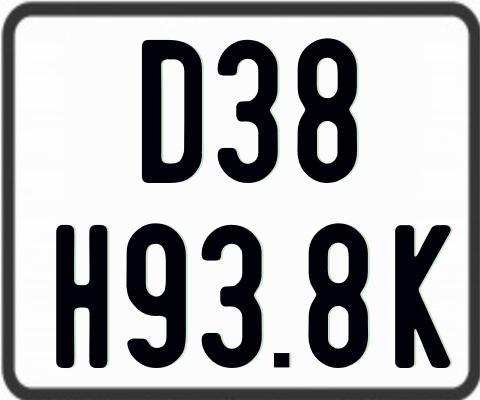3: (201, 225, 266, 373), (216, 38, 277, 185)
8: (306, 222, 370, 372), (296, 37, 358, 183)
9: (126, 220, 190, 369)
D: (142, 39, 204, 182)
H: (56, 222, 108, 365)
K: (394, 225, 451, 373)
